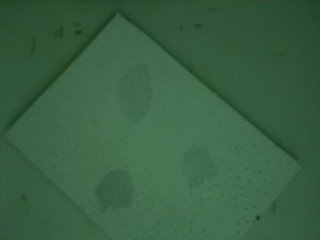Water_detected: (180, 149, 219, 187), (100, 175, 135, 211), (120, 74, 147, 120)
